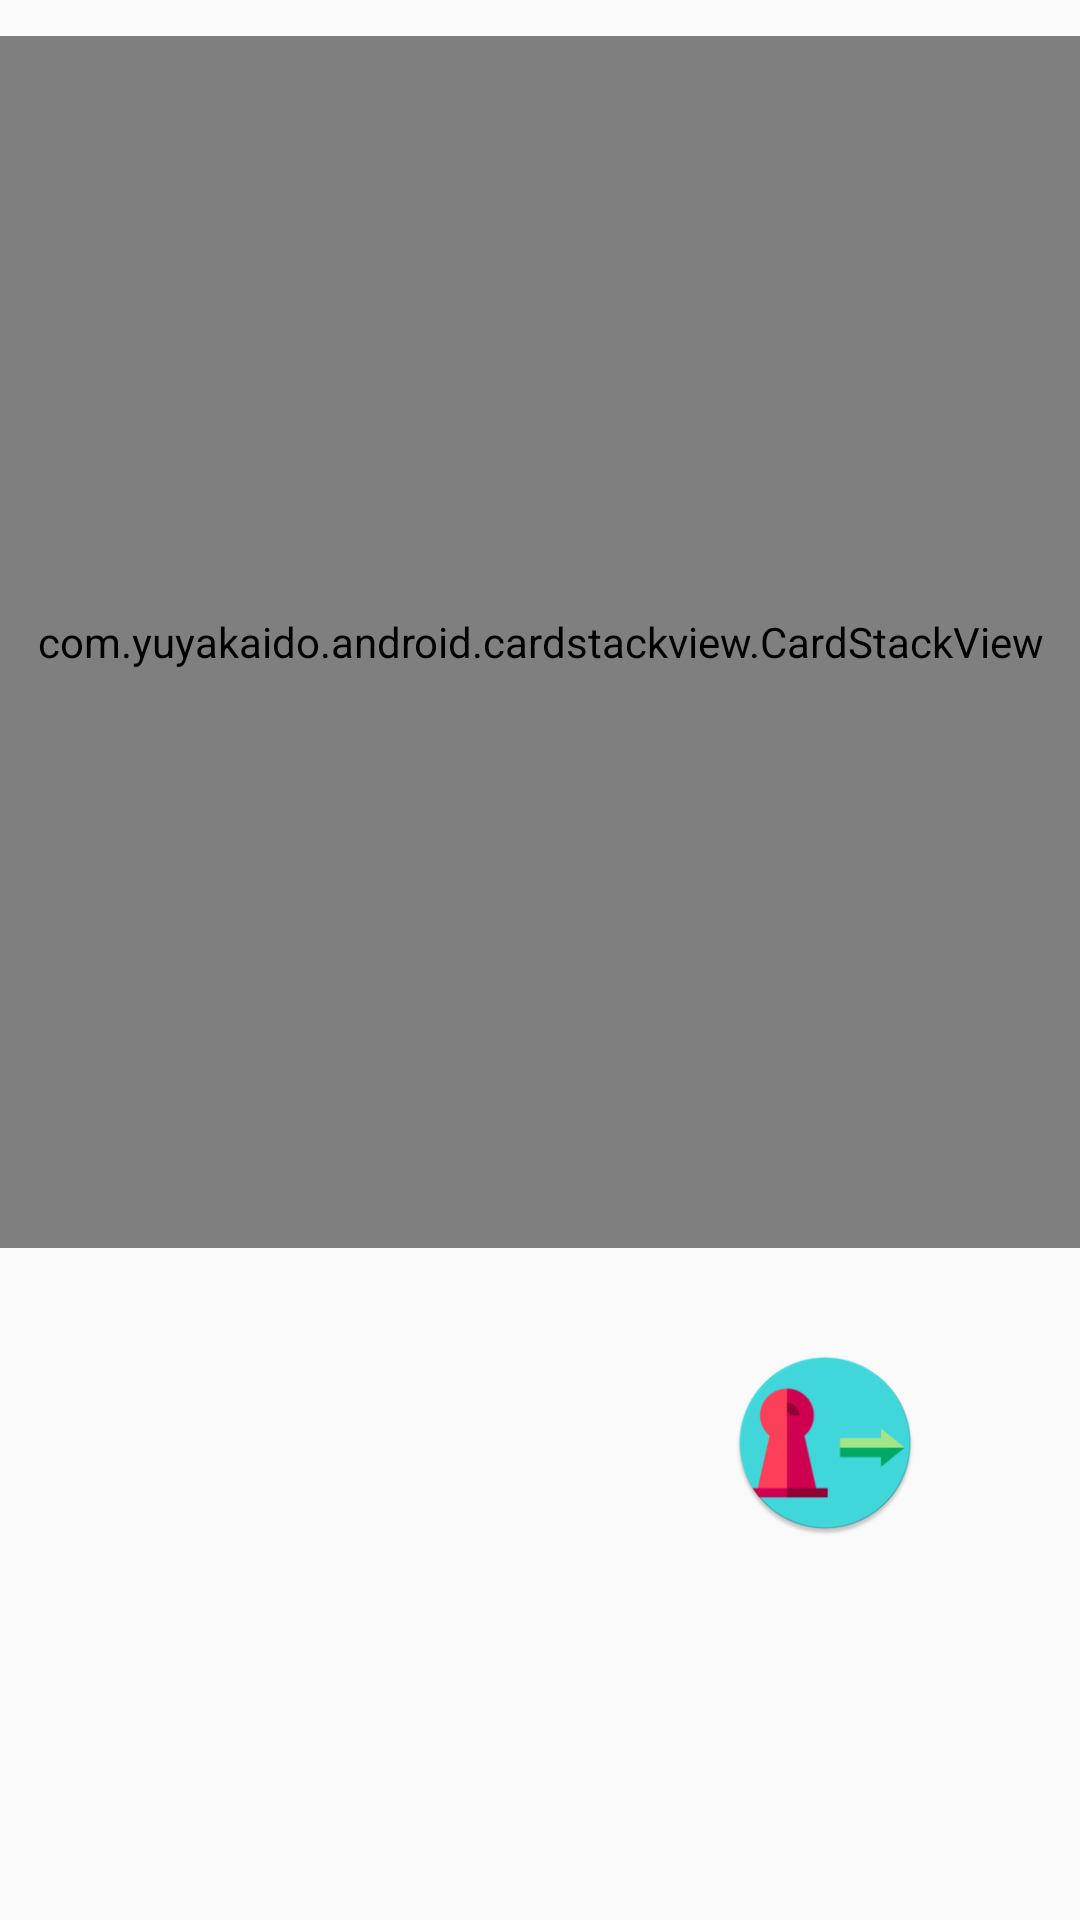

Where to tap for icons on this 1080px x 1920px app screen, as [x,y]:
join round: [825,1445]
